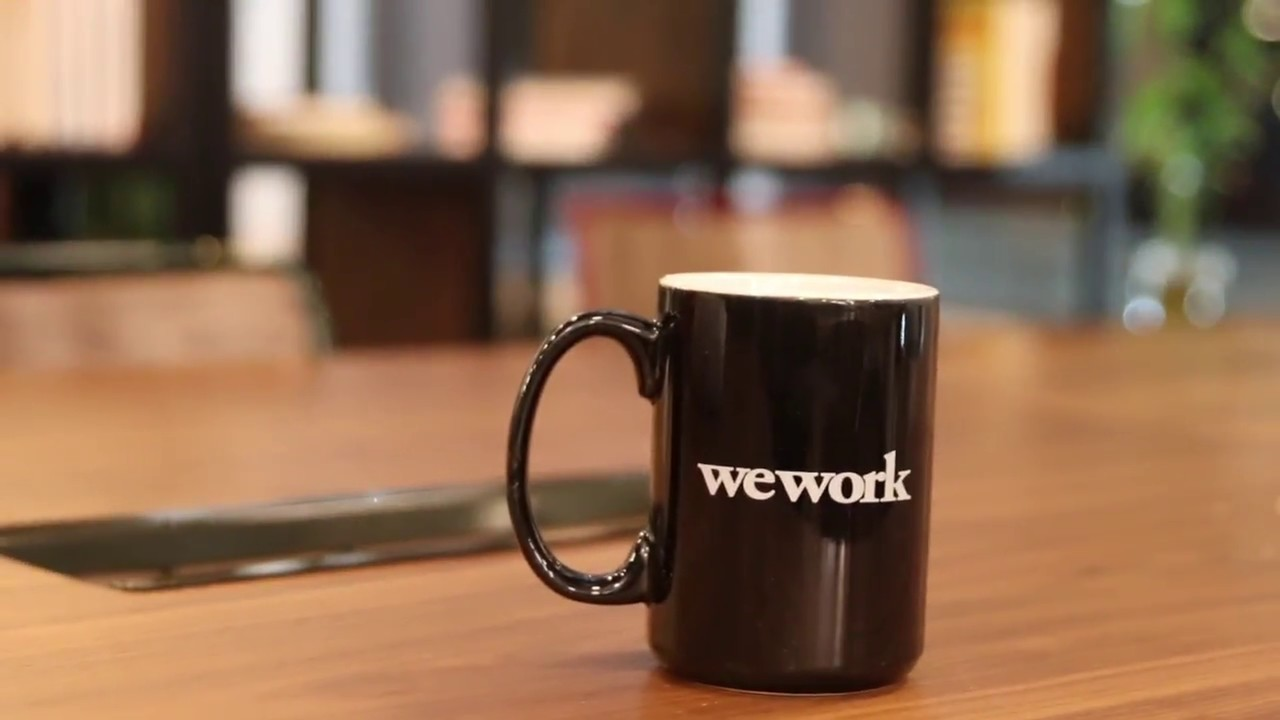wework: (691, 443, 917, 506)
